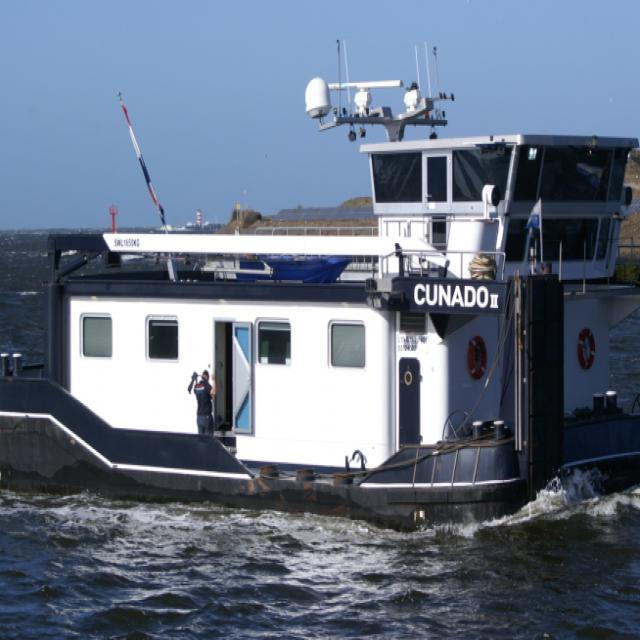tugboat: (1, 72, 640, 546)
